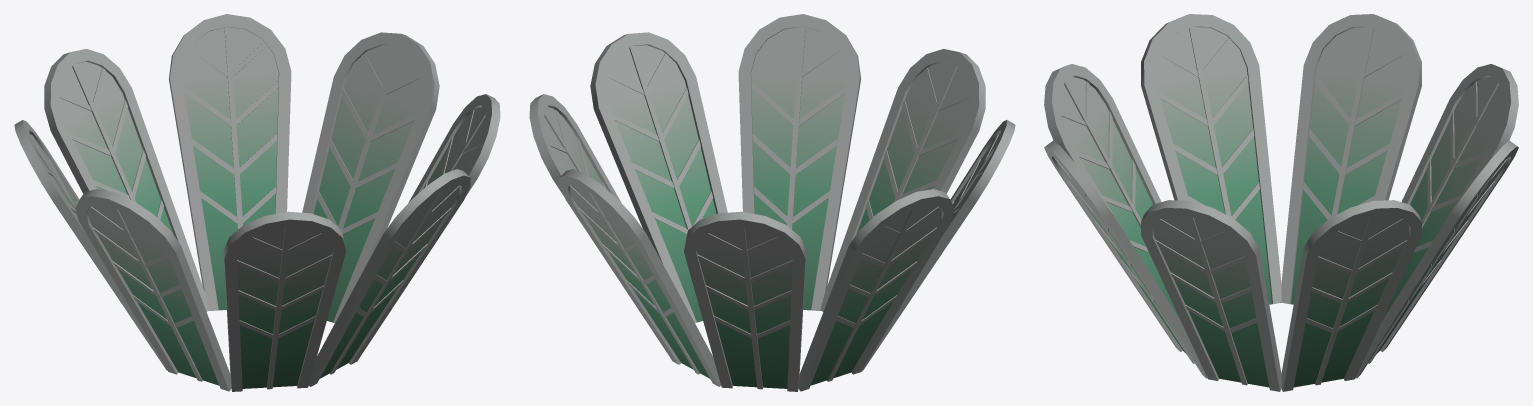
3 renders of one model, left to right at view 1: azimuth 30°, elevation 25°; view 2: azimuth 150°, elevation 25°; view 3: azimuth 270°, elevation 25°, orthographic.
Parts seen in each view (by area): view 1: G:\FFXIV-MapTools\exports\u5f1\bg\ex4\04_uvs_u5\fld\u5f1\bgp (×2); view 2: G:\FFXIV-MapTools\exports\u5f1\bg\ex4\04_uvs_u5\fld\u5f1\bgp (×2); view 3: G:\FFXIV-MapTools\exports\u5f1\bg\ex4\04_uvs_u5\fld\u5f1\bgp (×2).
Boxes of the visible parts, x1=… form: G:\FFXIV-MapTools\exports\u5f1\bg\ex4\04_uvs_u5\fld\u5f1\bgp (×2): x1=14, y1=14, x2=500, y2=391; G:\FFXIV-MapTools\exports\u5f1\bg\ex4\04_uvs_u5\fld\u5f1\bgp (×2): x1=529, y1=14, x2=1015, y2=391; G:\FFXIV-MapTools\exports\u5f1\bg\ex4\04_uvs_u5\fld\u5f1\bgp (×2): x1=1044, y1=14, x2=1518, y2=391.
Size of the model in its own units: 3.82 by 2.13 by 3.82.
